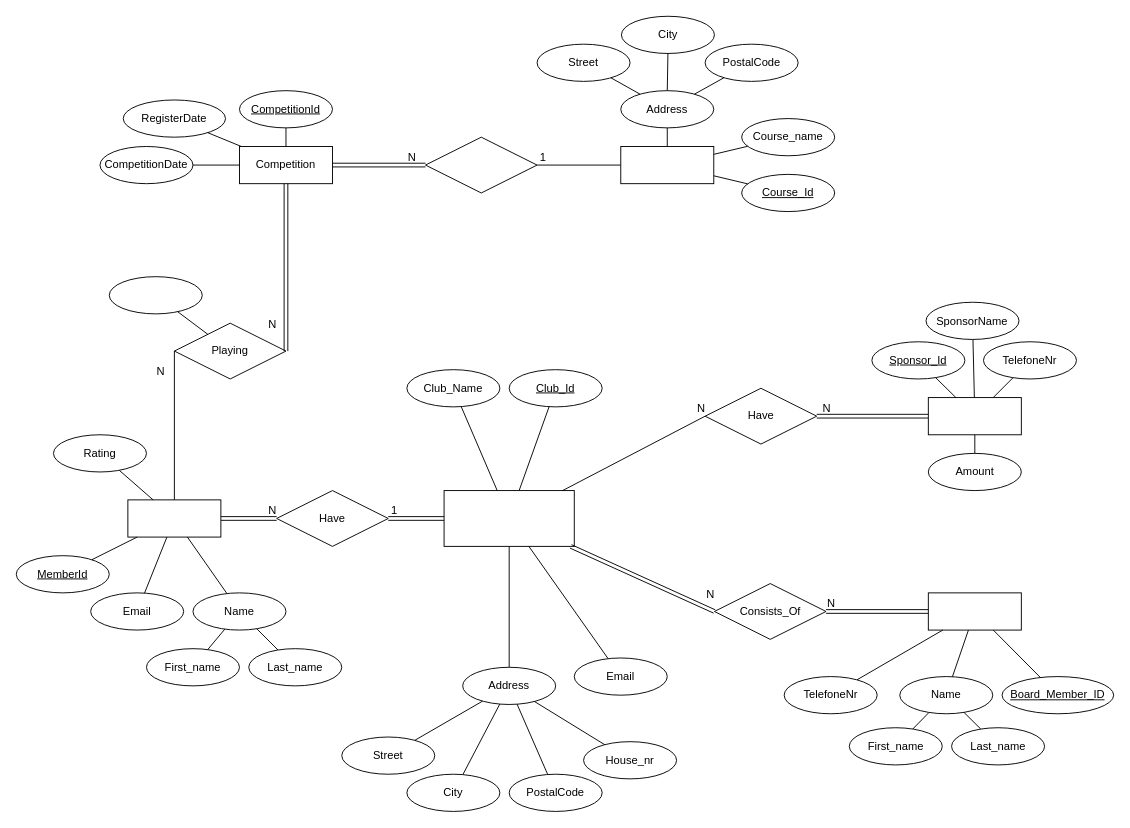
This 1130x828 diagram has some shape labels left out. Here are the shapes that lost their labels. From the top down, the centre of each, then its label:
At (x=481, y=164): "Plays_On".
At (x=667, y=165): "Course".
At (x=155, y=295): "Placement".
At (x=974, y=416): "Sponsors".
At (x=174, y=518): "Members".
At (x=508, y=518): "Discgolf-Club".
At (x=974, y=611): "Board_members".
